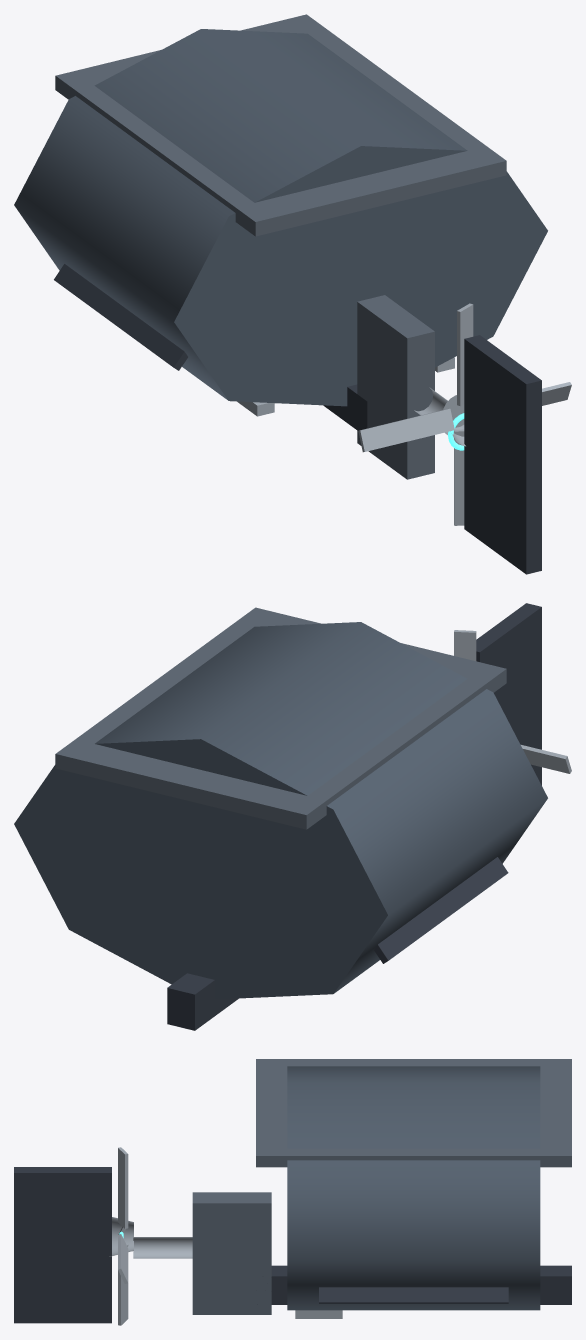
The model's file is hull.glb.
3 views of the same model, one above another, from view 1: azimuth 30°, elevation 25°; view 2: azimuth 150°, elevation 25°; view 3: azimuth 270°, elevation 25° (orthographic). The views are drawn at different scales.
Parts seen in each view (by area): view 1: model; view 2: model; view 3: model.
Part boxes in pixels (x1=…): model: x1=14, y1=14, x2=571, y2=574; model: x1=14, y1=603, x2=571, y2=1030; model: x1=14, y1=1059, x2=571, y2=1325.
Bounding box in the file's own units: 2.16 × 1.67 × 3.53.
